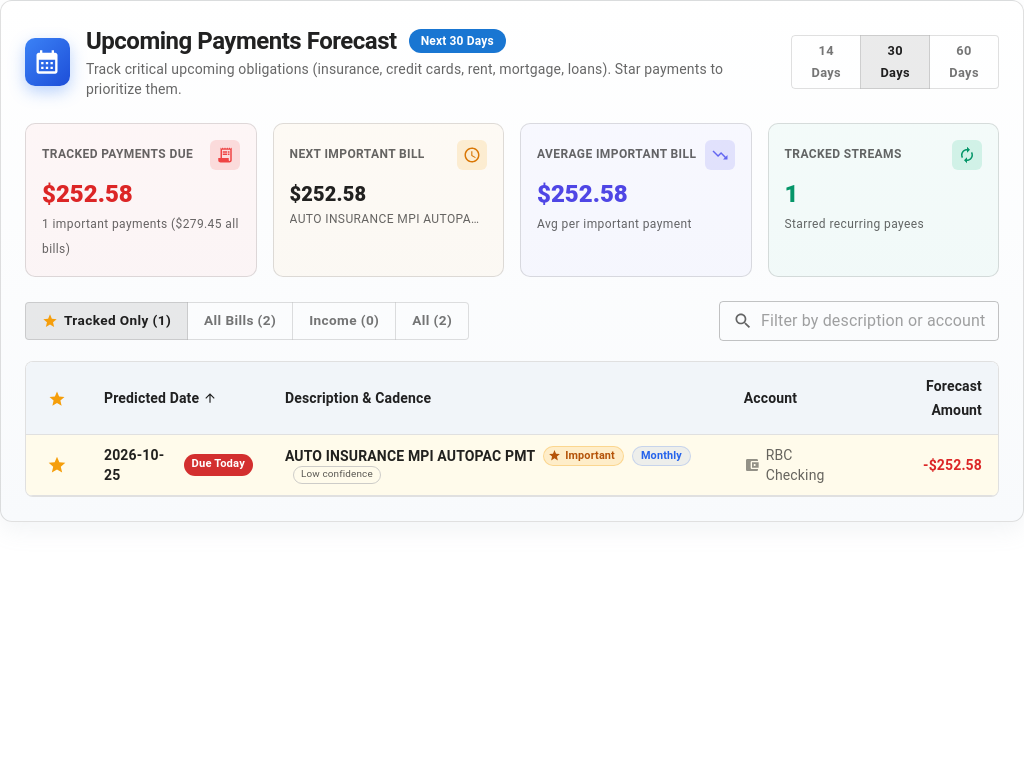
Test: UpcomingPaymentsWidget › filters payments when Tracked Only view is active
This screenshot has width=1024, height=768.
Expected: the text "AUTO INSURANCE MPI AUTOPAC PMT" is shown, [285, 446, 535, 466]
Expected: the text "NETFLIX.COM" is not shown
// Switch to All Bills
Click the button "All Bills (2)".
click(240, 321)  # box [187, 302, 293, 340]
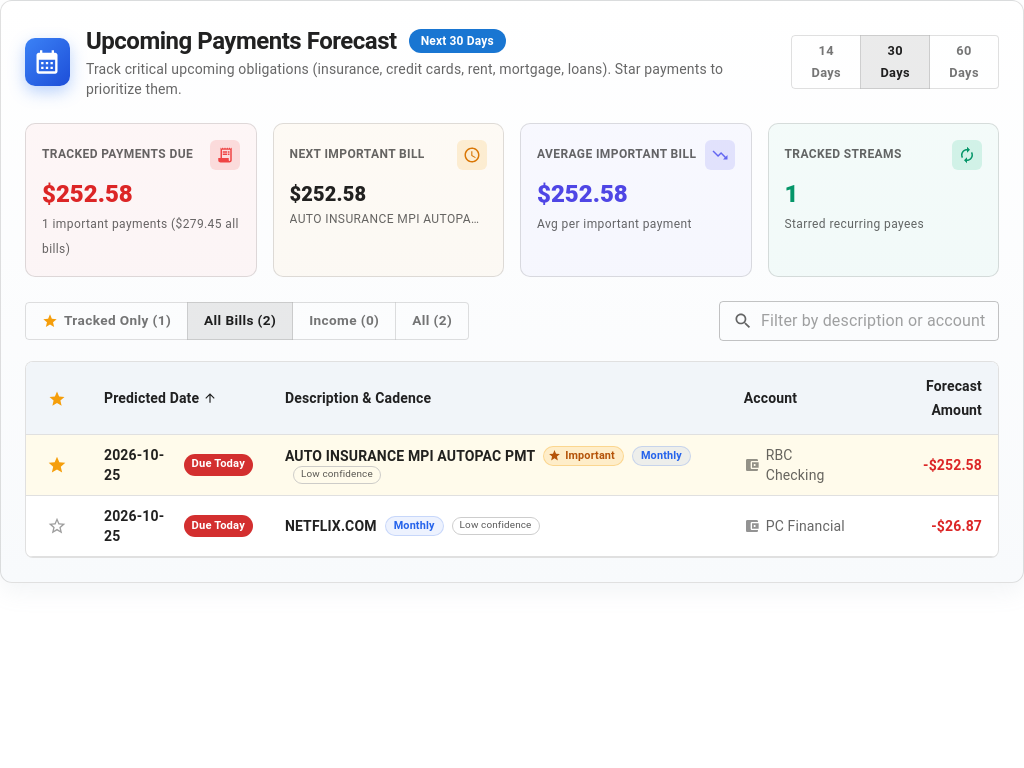
Result: the text "NETFLIX.COM" is shown at [285, 516, 377, 536]
